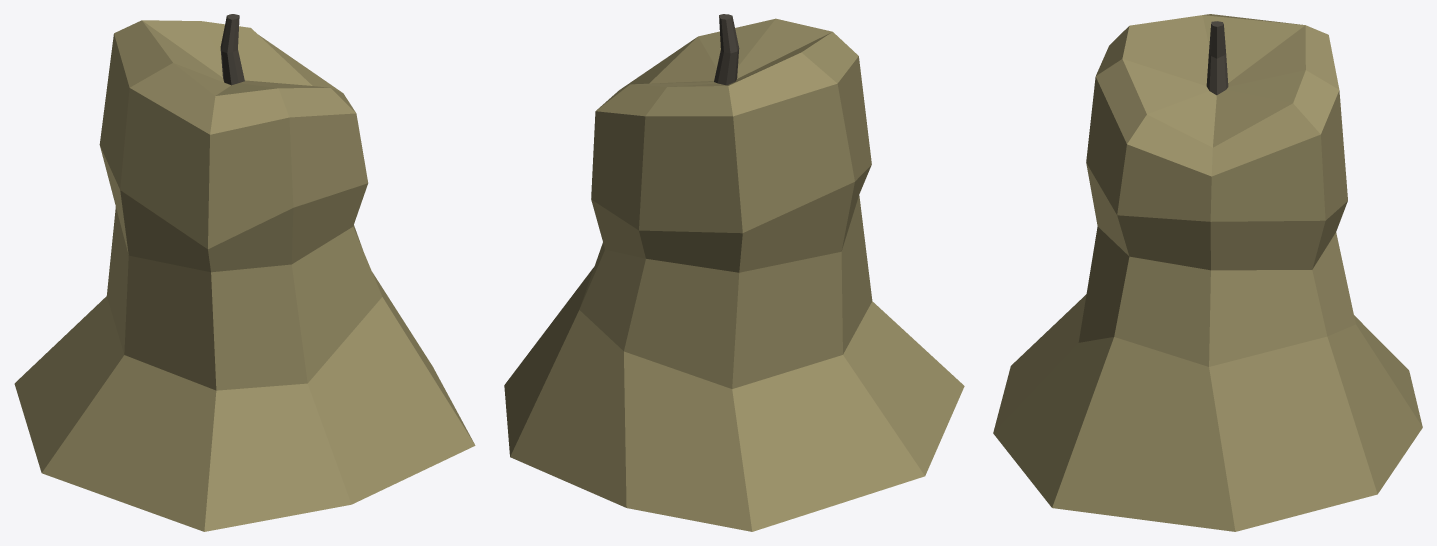
Rendered from Candle_3.fbx.
The picture shows the model from 3 angles, left to right: view 1: azimuth 30°, elevation 25°; view 2: azimuth 150°, elevation 25°; view 3: azimuth 270°, elevation 25°; orthographic projection.
Parts seen in each view (by area): view 1: Candle_3; view 2: Candle_3; view 3: Candle_3.
Boxes of the visible parts, x1,y1,x2,y2 form: Candle_3: (14, 14, 475, 531); Candle_3: (504, 14, 964, 531); Candle_3: (993, 14, 1422, 531).
Bounding box in the file's own units: 5.64 × 5.45 × 5.22.
